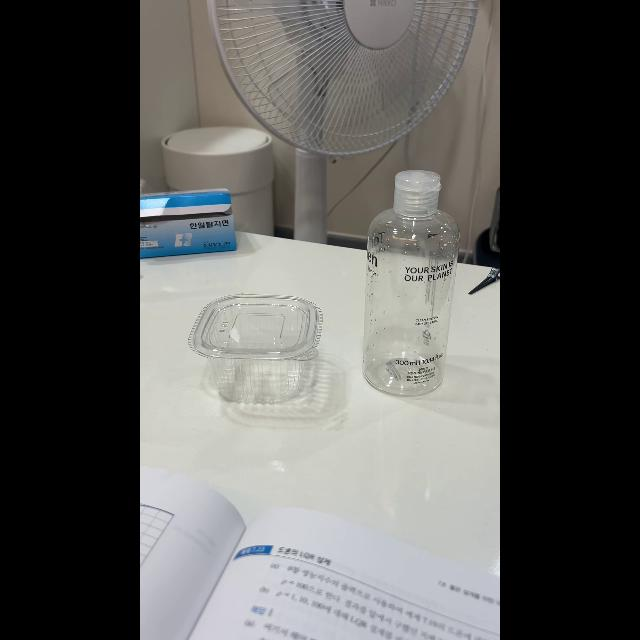clean: (359, 172, 458, 390), (194, 294, 322, 408)
